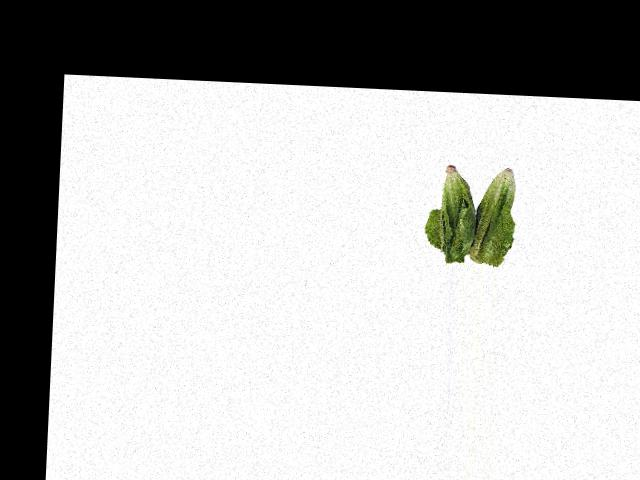lettuce: (433, 163, 522, 267)
